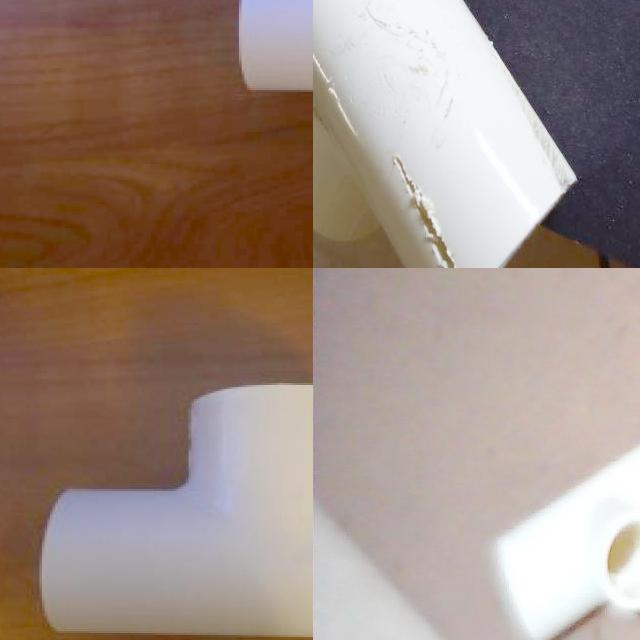Defective: (513, 77, 581, 195), (391, 158, 456, 268), (313, 47, 354, 142)
T Joint: (313, 0, 577, 268), (38, 385, 313, 640), (486, 445, 640, 640)
